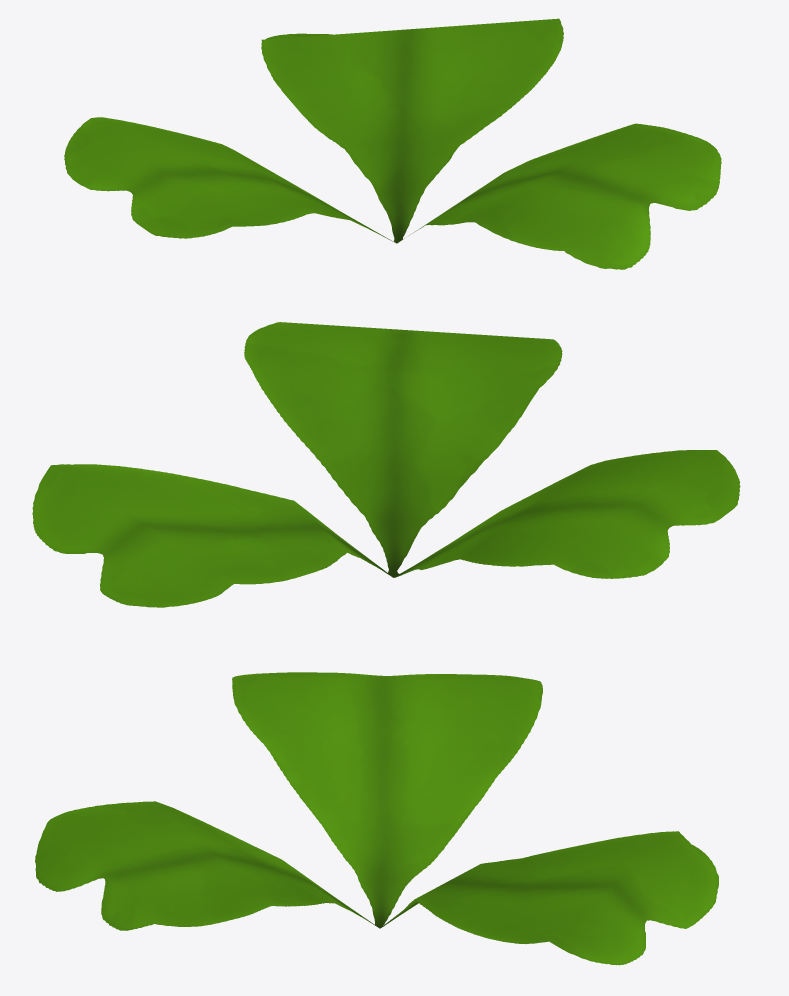
Rendered from Plant4.fbx.
3 views of the same model, one above another, from view 1: azimuth 30°, elevation 25°; view 2: azimuth 150°, elevation 25°; view 3: azimuth 270°, elevation 25° (orthographic). The views are drawn at different scales.
Parts seen in each view (by area): view 1: Plane_Stylized20; view 2: Plane_Stylized20; view 3: Plane_Stylized20.
Boxes of the visible parts, <box> form: Plane_Stylized20: <box>64,18,721,269</box>; Plane_Stylized20: <box>32,322,740,607</box>; Plane_Stylized20: <box>35,672,718,965</box>.
Bounding box in the file's own units: 6.09 × 1.16 × 6.04.
